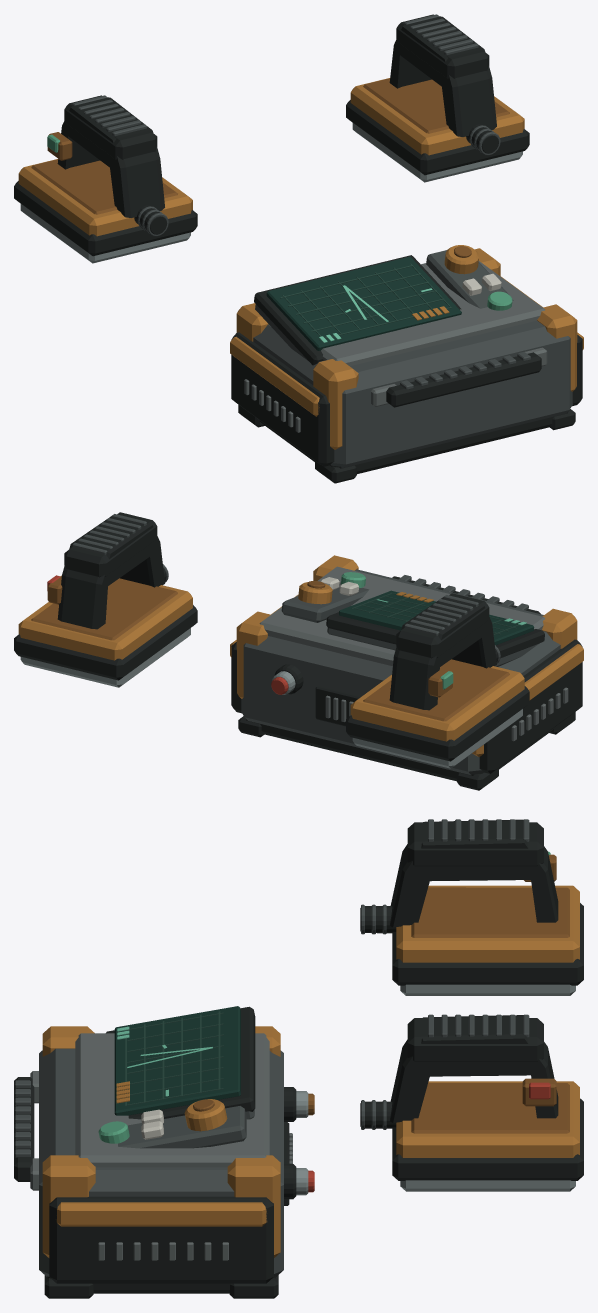
The model's file is defibrillator.glb.
3 renders of one model, top to bottom at view 1: azimuth 30°, elevation 25°; view 2: azimuth 150°, elevation 25°; view 3: azimuth 270°, elevation 25°, orthographic. The views are drawn at different scales.
Visible parts, largest first — view 1: MonitorHousing, LeftPaddleHousing, RightPaddleHousing, Display, Controls; view 2: MonitorHousing, RightPaddleHousing, LeftPaddleHousing, Controls, Display; view 3: MonitorHousing, LeftPaddleHousing, RightPaddleHousing, Display, Controls.
Boxes of the visible parts, x1,y1,x2,y2 form: MonitorHousing: [230, 248, 583, 483]; LeftPaddleHousing: [14, 95, 197, 263]; RightPaddleHousing: [346, 14, 529, 182]; Display: [266, 256, 461, 350]; Controls: [254, 245, 513, 365]; MonitorHousing: [230, 555, 583, 790]; RightPaddleHousing: [14, 512, 197, 687]; LeftPaddleHousing: [346, 593, 529, 768]; Controls: [281, 572, 544, 666]; Display: [339, 590, 534, 645]; MonitorHousing: [14, 1026, 314, 1298]; LeftPaddleHousing: [360, 819, 583, 995]; RightPaddleHousing: [360, 1014, 583, 1191]; Display: [114, 1006, 240, 1115]; Controls: [98, 1006, 255, 1148].
Bounding box in the file's own units: 0.4521 × 0.2454 × 0.419.
